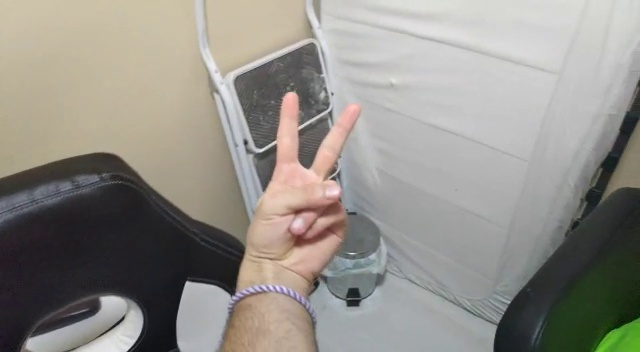Peace: (236, 91, 372, 271)
